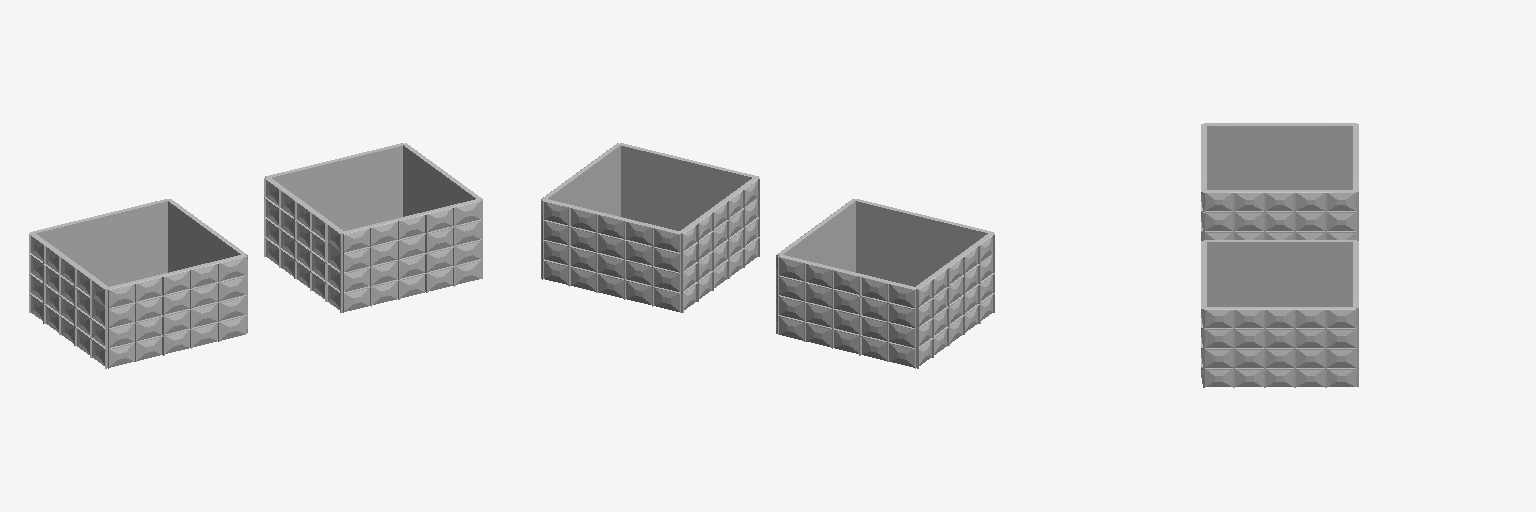
File: tank.obj
3 renders of one model, left to right at view 1: azimuth 30°, elevation 25°; view 2: azimuth 150°, elevation 25°; view 3: azimuth 270°, elevation 25°, orthographic.
Parts seen in each view (by area): view 1: Cube.002_Cube.004, Cube.001_Cube.021; view 2: Cube.001_Cube.021, Cube.002_Cube.004; view 3: Cube.001_Cube.021, Cube.002_Cube.004.
Part boxes in pixels (x1,y1,x2,y2): Cube.002_Cube.004: (29, 199, 247, 368); Cube.001_Cube.021: (264, 143, 482, 312); Cube.001_Cube.021: (541, 143, 759, 312); Cube.002_Cube.004: (776, 199, 994, 368); Cube.001_Cube.021: (1201, 240, 1358, 387); Cube.002_Cube.004: (1201, 123, 1358, 240).
Bounding box in the file's own units: 9.38 × 1.92 × 3.4.